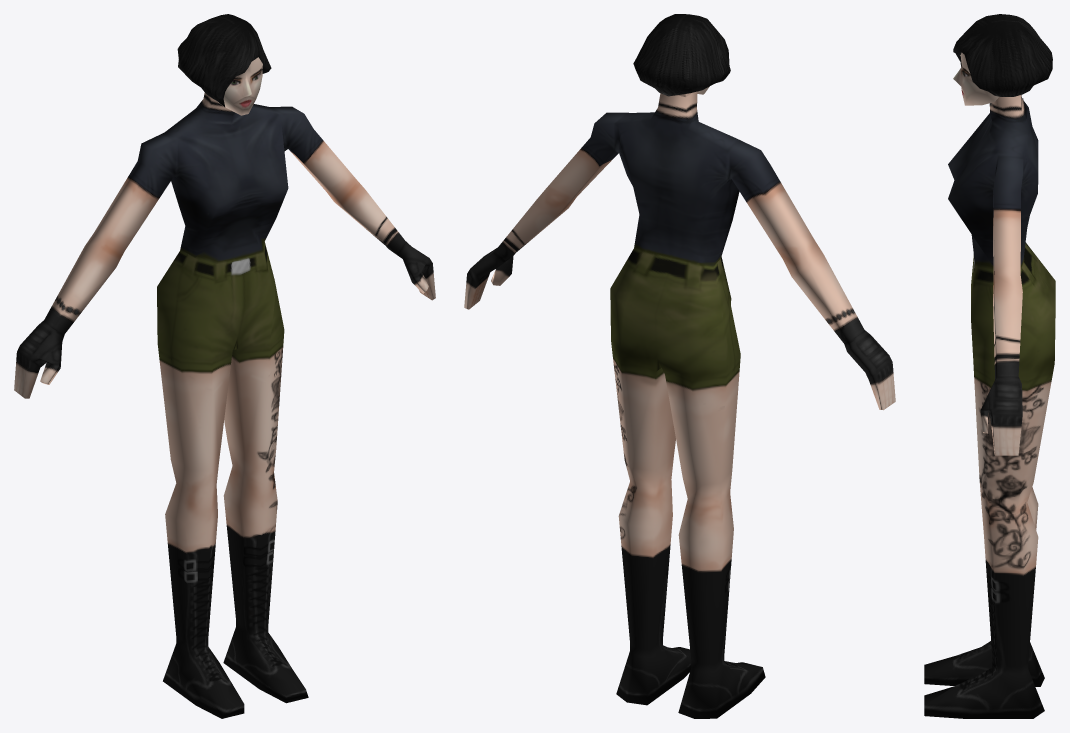
File: girl2.FBX
3 renders of one model, left to right at view 1: azimuth 30°, elevation 25°; view 2: azimuth 150°, elevation 25°; view 3: azimuth 270°, elevation 25°, orthographic. The views are drawn at different scales.
Parts seen in each view (by area): view 1: Face; view 2: Face; view 3: Face.
Part boxes in pixels (x1,y1,x2,y2): Face: (14,14,435,718); Face: (464,14,895,718); Face: (924,14,1055,718).
Size of the model in its own units: 52.39 by 80.53 by 14.21.
